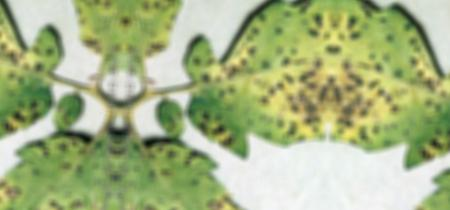Tomato leaf bacterial spot: (174, 0, 336, 166), (108, 136, 280, 210), (123, 0, 192, 70)
